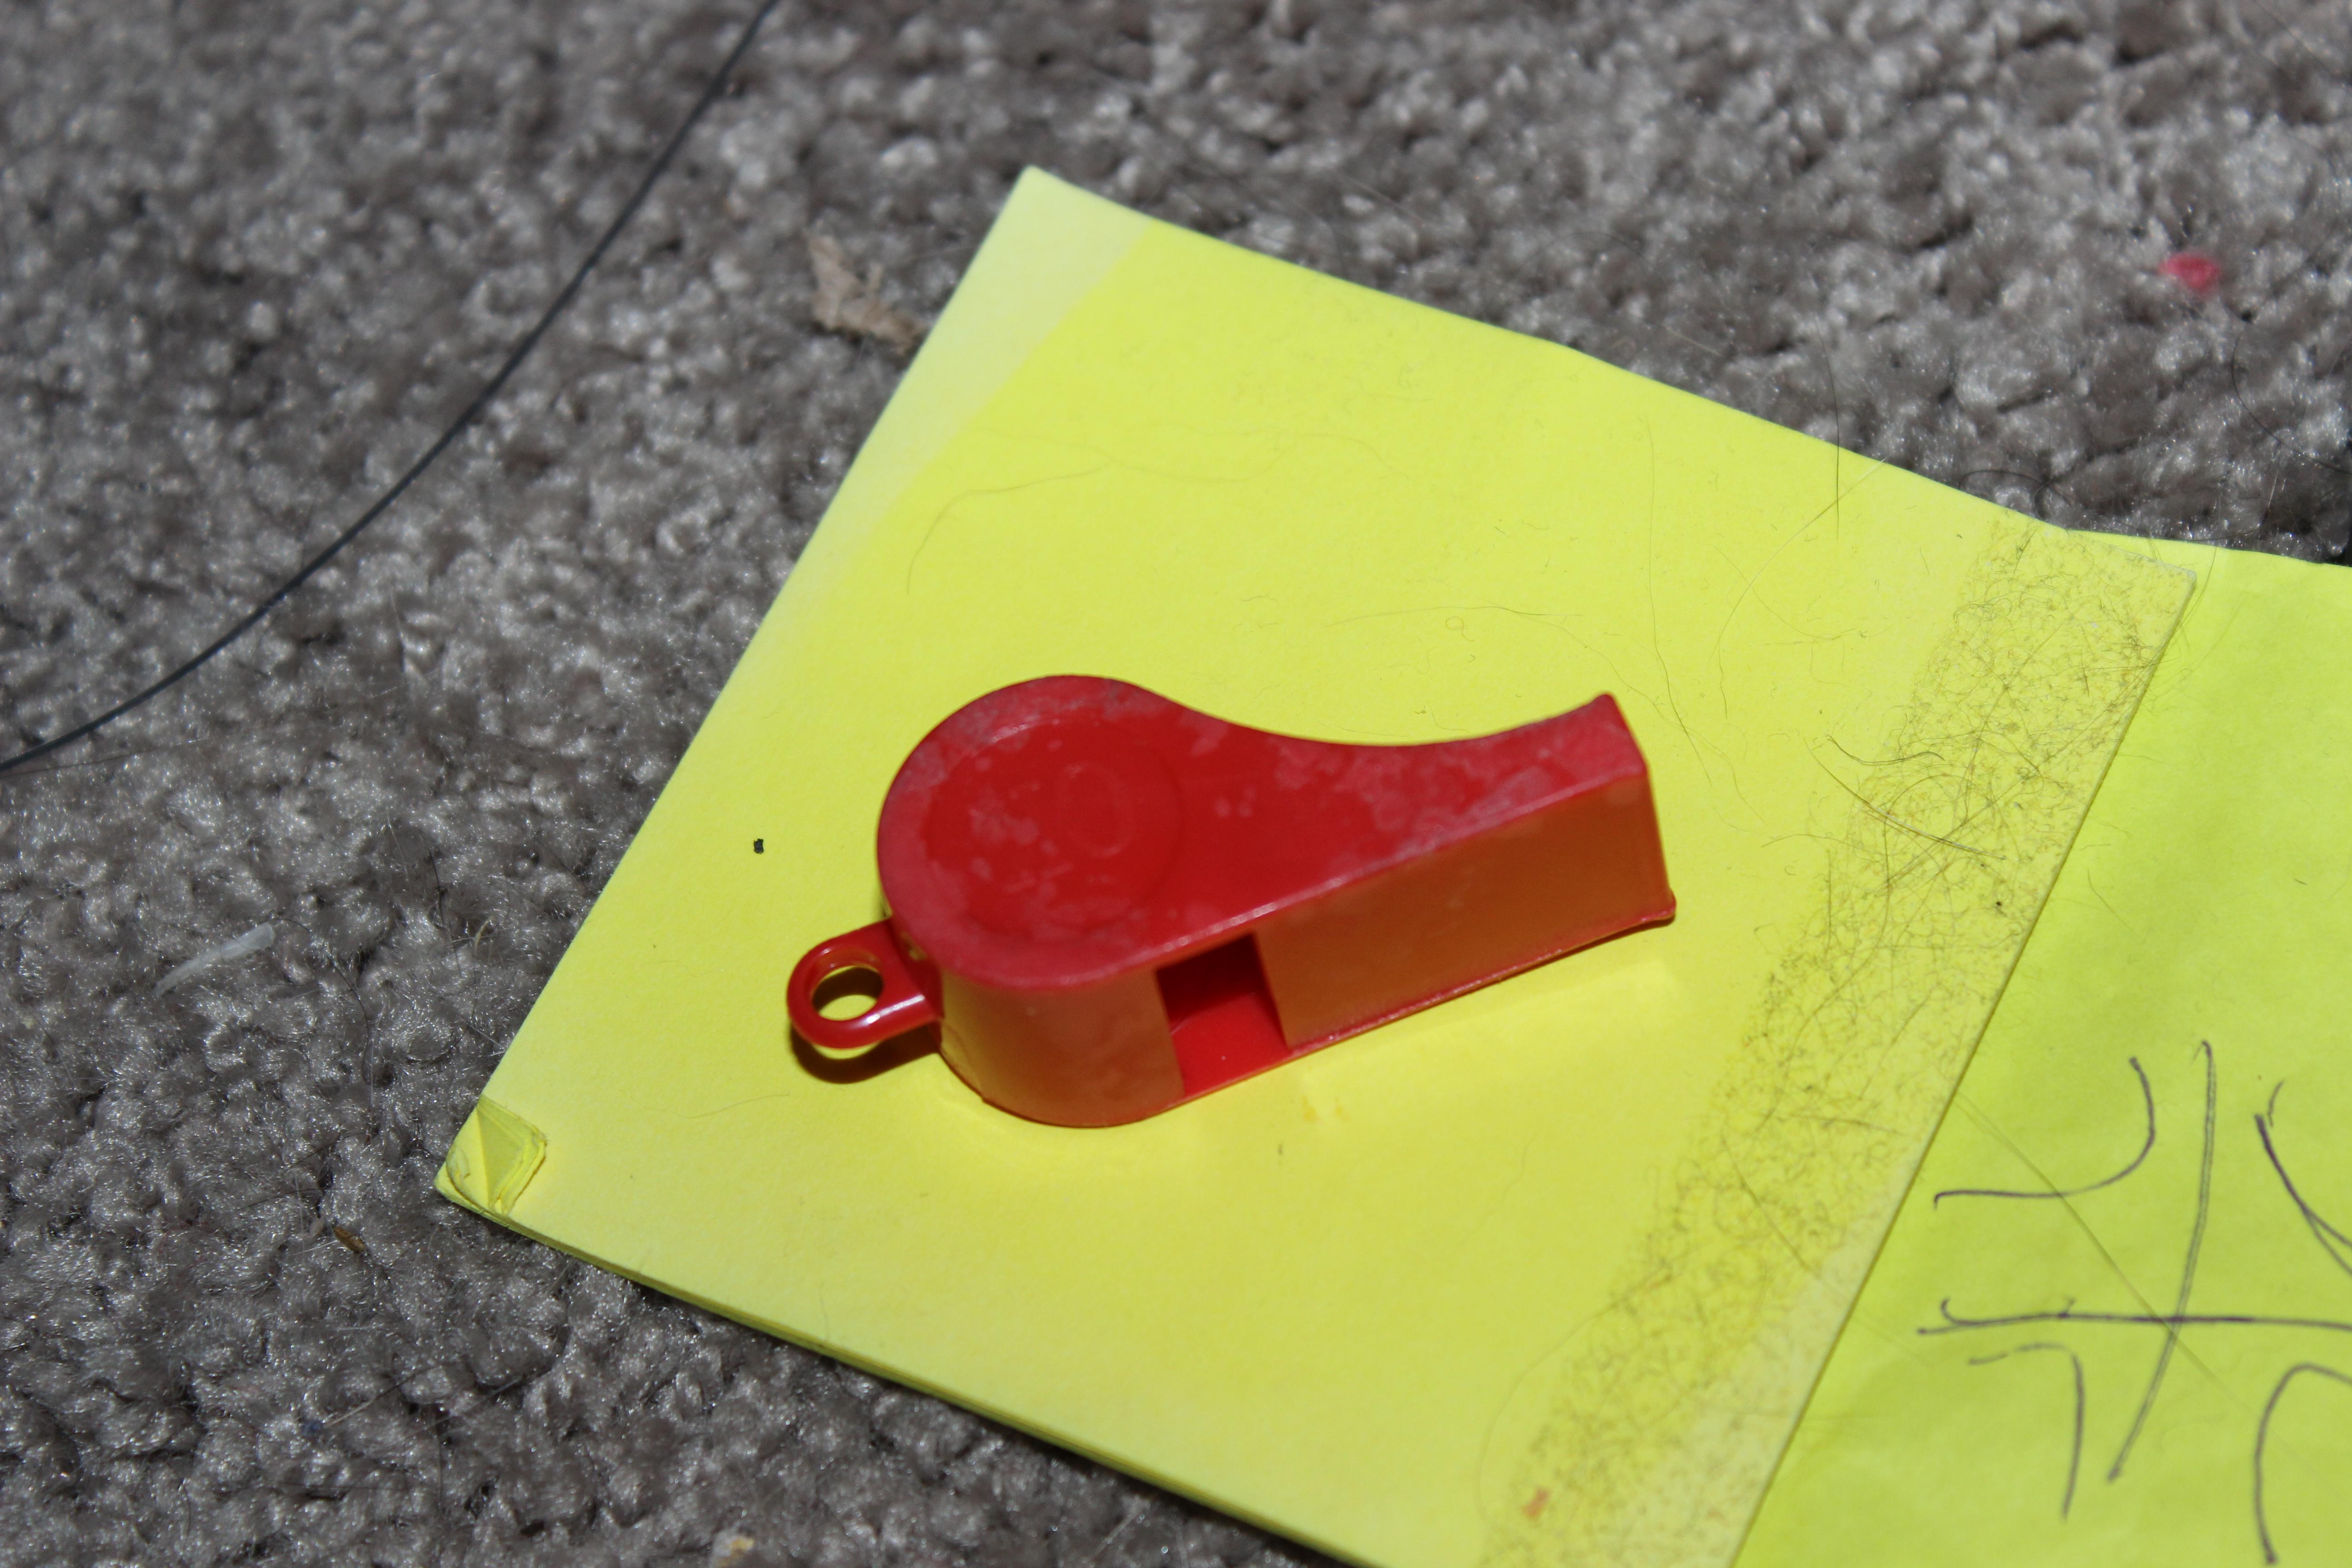redWhistle: (765, 618, 1708, 1178)
